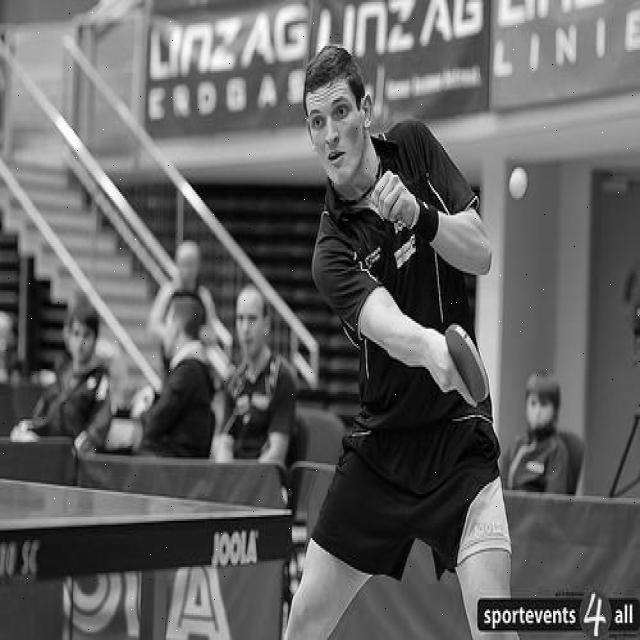ping-pong-ball: (507, 163, 529, 202)
